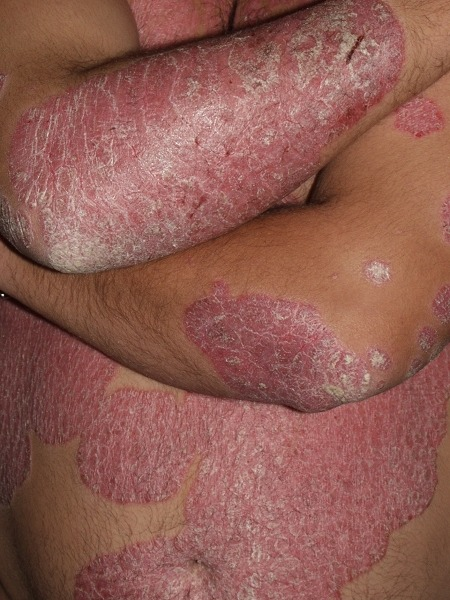Psoriasis: (0, 2, 411, 275), (79, 366, 450, 600), (2, 278, 109, 512), (166, 282, 363, 406), (388, 85, 443, 146)
